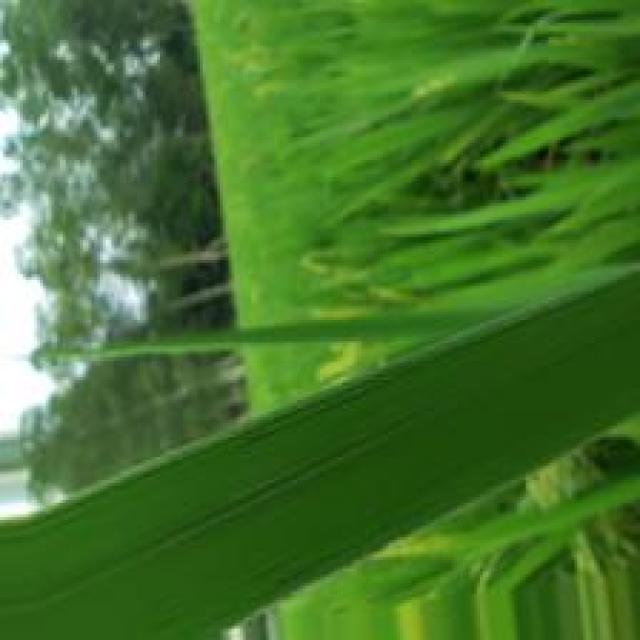HealthyLeaf: (0, 273, 640, 640)
